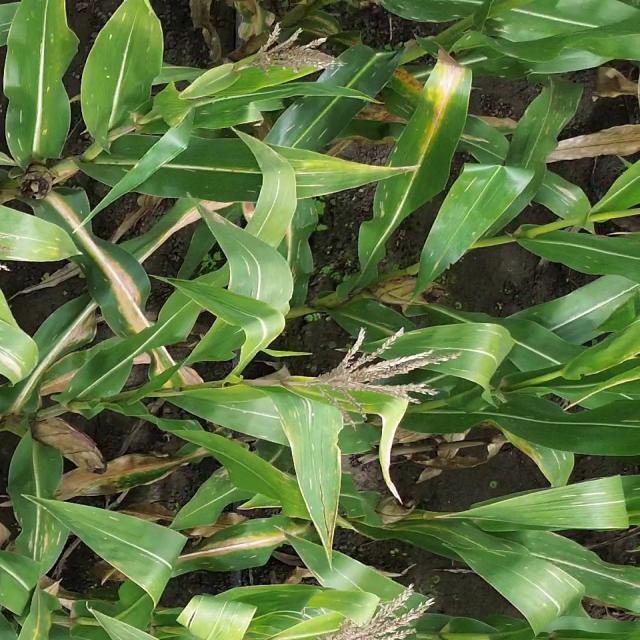gray-leaf-spot: (417, 478, 627, 636), (436, 85, 592, 265), (246, 396, 366, 569), (240, 154, 331, 292), (400, 323, 500, 388), (7, 499, 86, 577)
northern-leaf-blight: (48, 191, 215, 396), (53, 434, 227, 496), (297, 139, 390, 202), (393, 56, 473, 125)
southern-leaf-blight: (7, 13, 165, 130)
